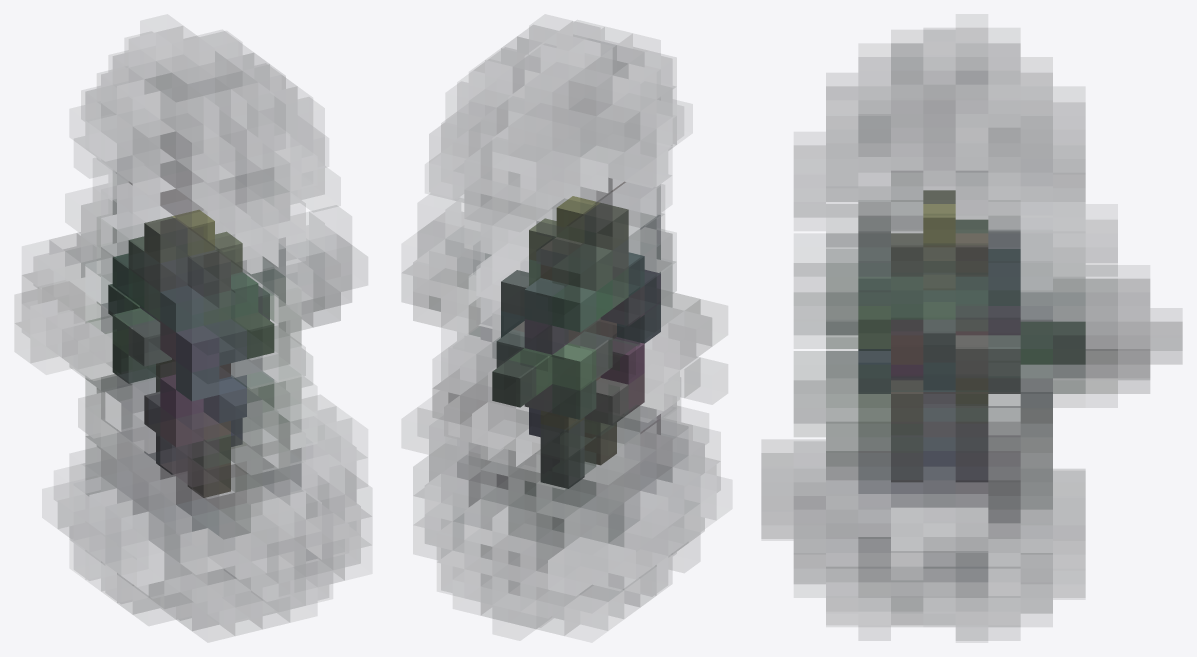
File: iter_30.obj
3 views of the same model, side by side, from view 1: azimuth 30°, elevation 25°; view 2: azimuth 150°, elevation 25°; view 3: azimuth 270°, elevation 25° (orthographic). The views are drawn at different scales.
Visible parts, largest first — view 1: iter_30; view 2: iter_30; view 3: iter_30.
Boxes of the visible parts, bbox=[...] form: iter_30: bbox=[15, 26, 371, 635]; iter_30: bbox=[402, 21, 720, 635]; iter_30: bbox=[761, 28, 1182, 640].
Bounding box in the file's own units: 1 × 2 × 1.3.
